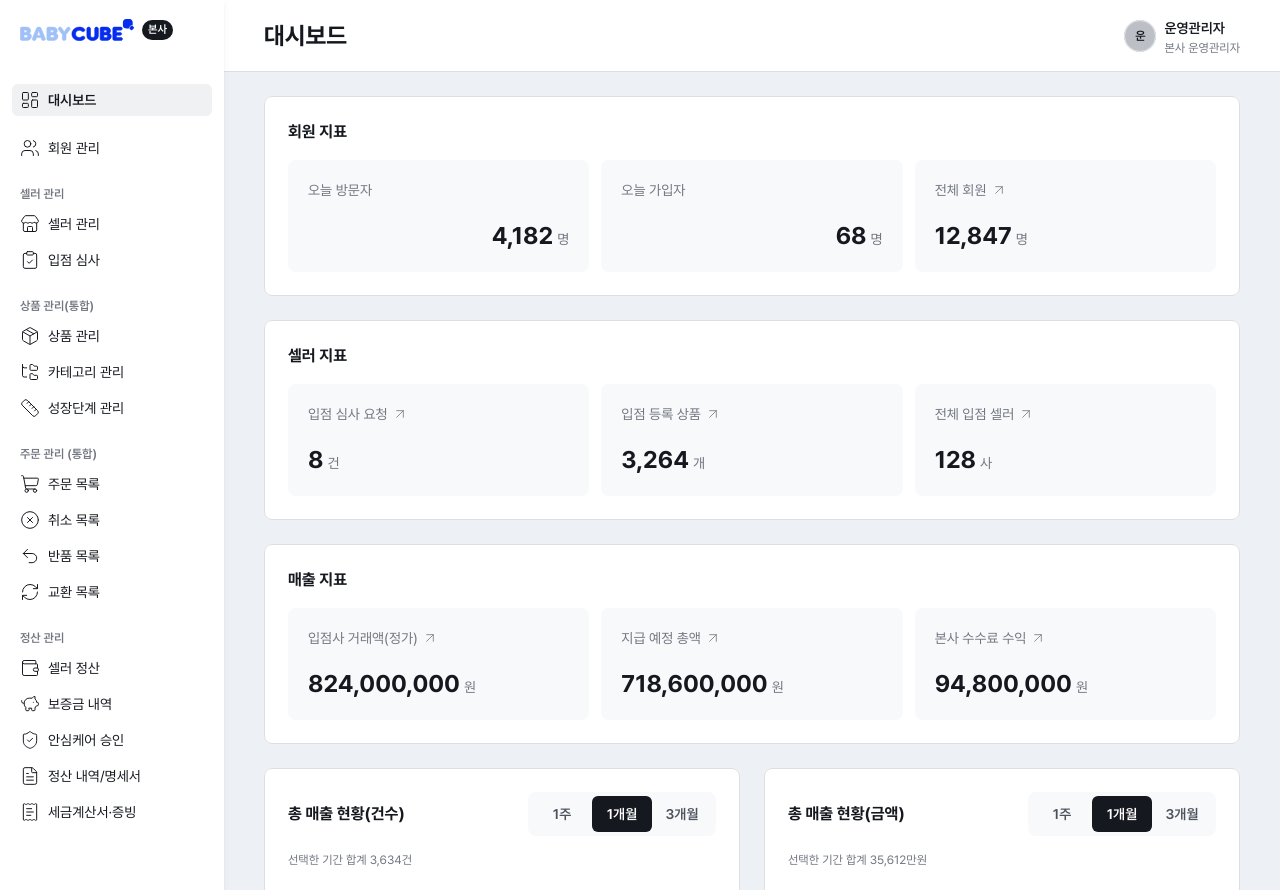
Scenario: App › 경로 → 화면 › GNB 로 이동하면 주소창도 함께 바뀐다
Click the button "회원 관리": (112, 148) [12,132,212,164]
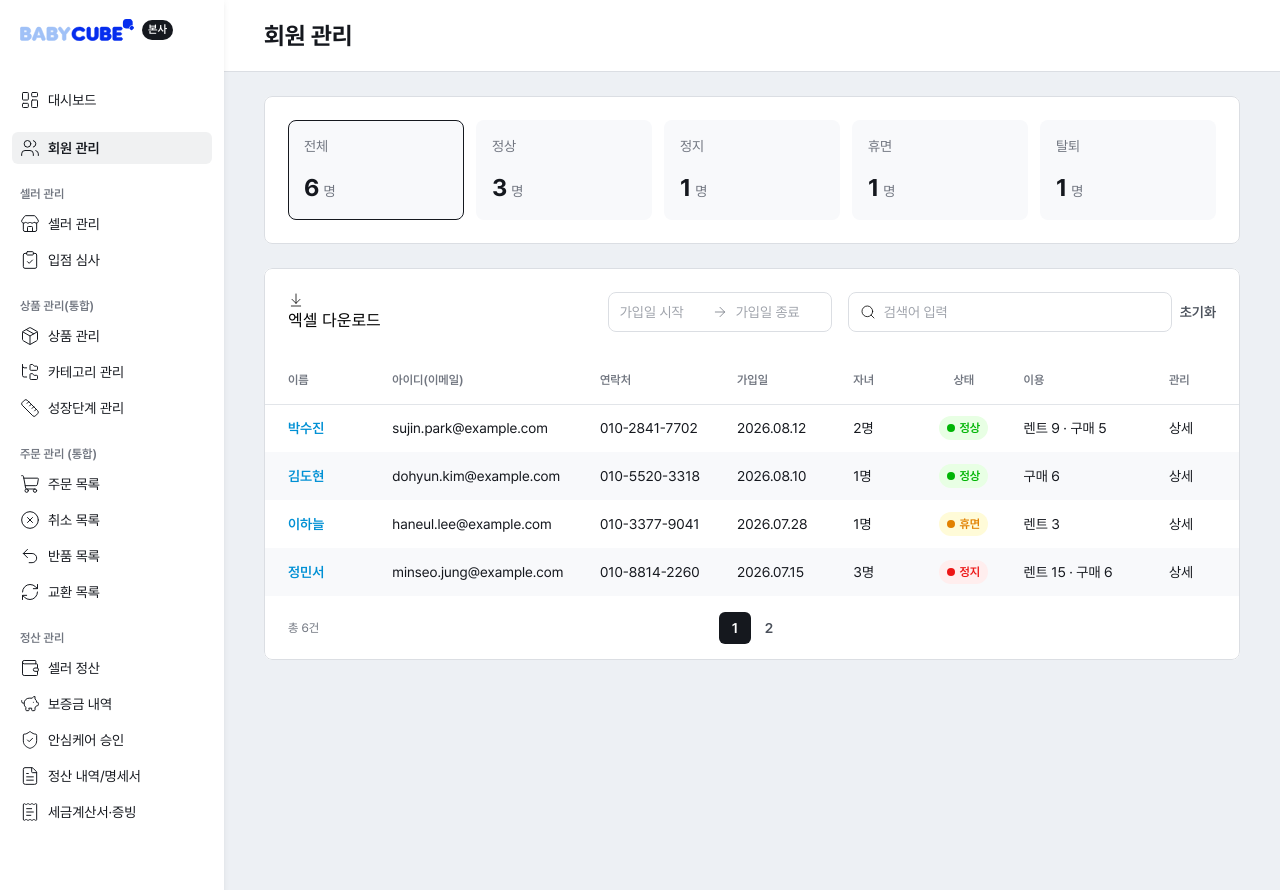
Now the heading "회원 관리" is shown, box [264,20,352,52]
